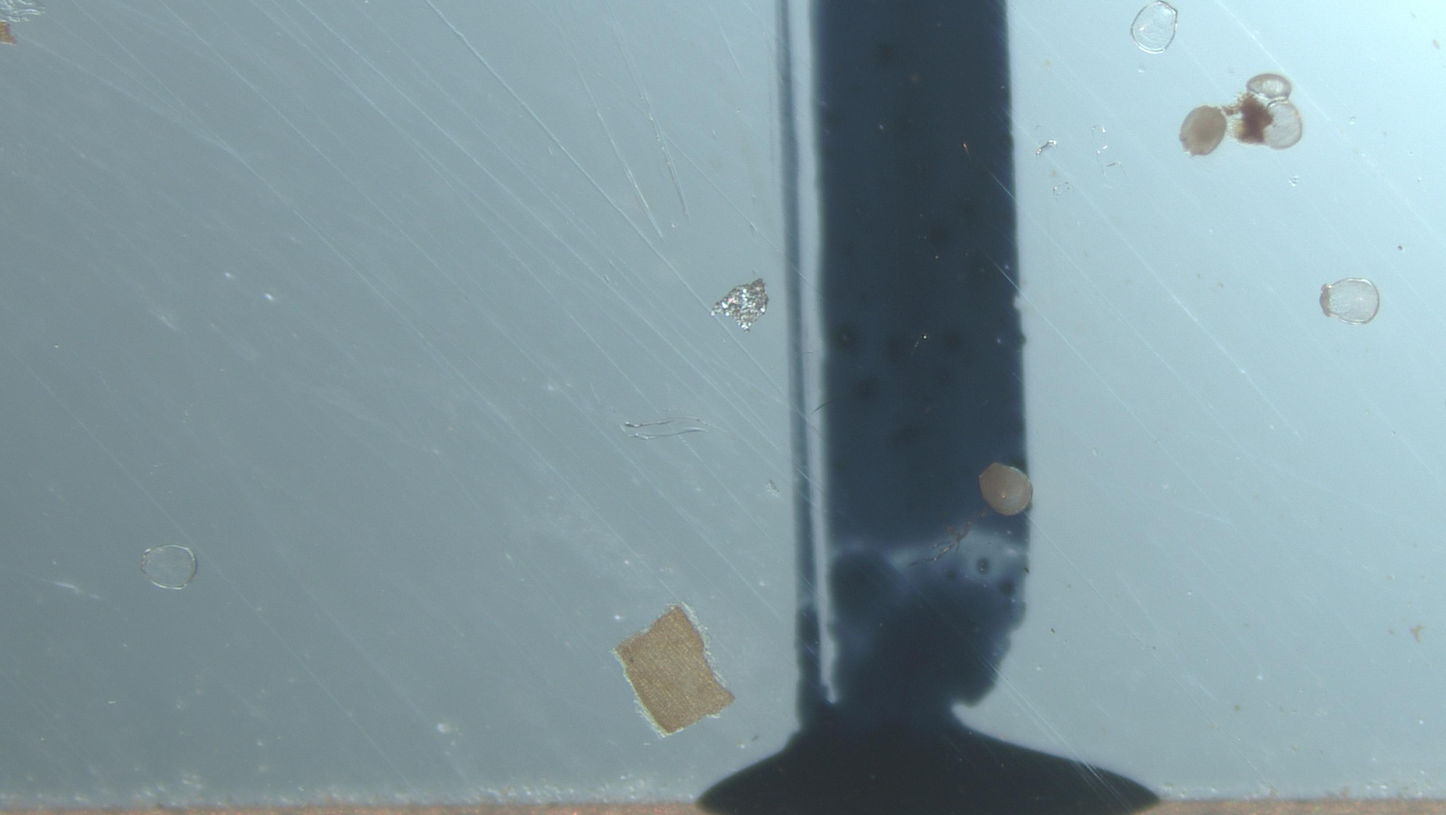dead: (1320, 279, 1381, 324), (1131, 0, 1178, 53), (143, 545, 197, 589)
live: (979, 463, 1033, 516), (1180, 106, 1229, 156)
